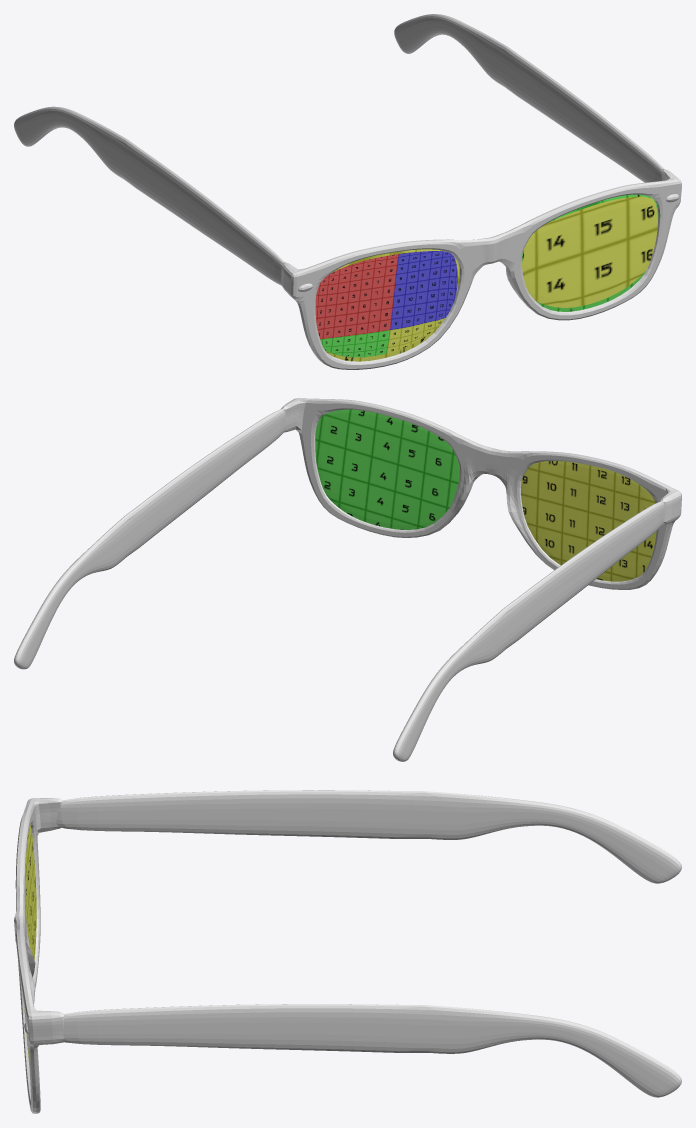
Rendered from glasses3Textured.glb.
3 renders of one model, top to bottom at view 1: azimuth 30°, elevation 25°; view 2: azimuth 150°, elevation 25°; view 3: azimuth 270°, elevation 25°, orthographic. The views are drawn at different scales.
Visible parts, largest first — view 1: Verres, branche, Monture; view 2: Verres, branche, Monture; view 3: branche, Monture, Verres.
Boxes of the visible parts, x1=… form: Verres: x1=315, y1=194, x2=658, y2=361; branche: x1=14, y1=14, x2=663, y2=285; Monture: x1=281, y1=169, x2=681, y2=369; Verres: x1=315, y1=409, x2=656, y2=581; branche: x1=14, y1=409, x2=664, y2=761; Monture: x1=281, y1=398, x2=681, y2=589; branche: x1=56, y1=790, x2=681, y2=1097; Monture: x1=14, y1=798, x2=64, y2=1113; Verres: x1=24, y1=825, x2=36, y2=1064.
Size of the model in its own units: 2.01 by 0.6113 by 2.59.
Materials: 4 (1 with a texture image).
